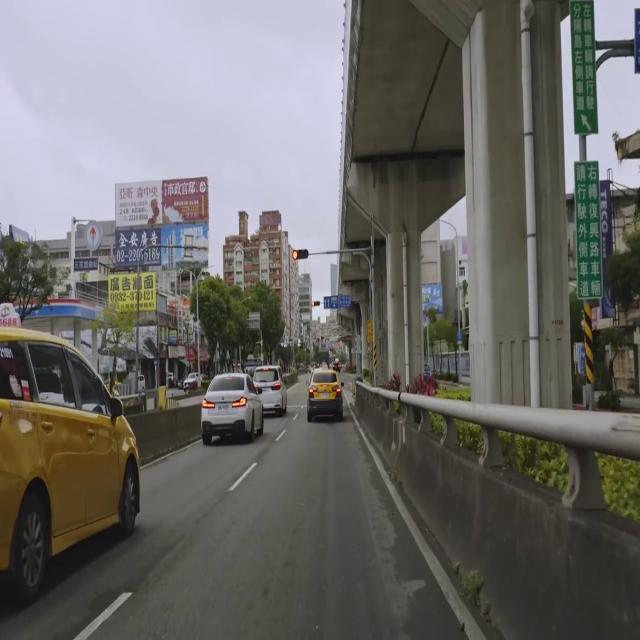red light: (292, 249, 309, 260), (311, 301, 320, 307)
